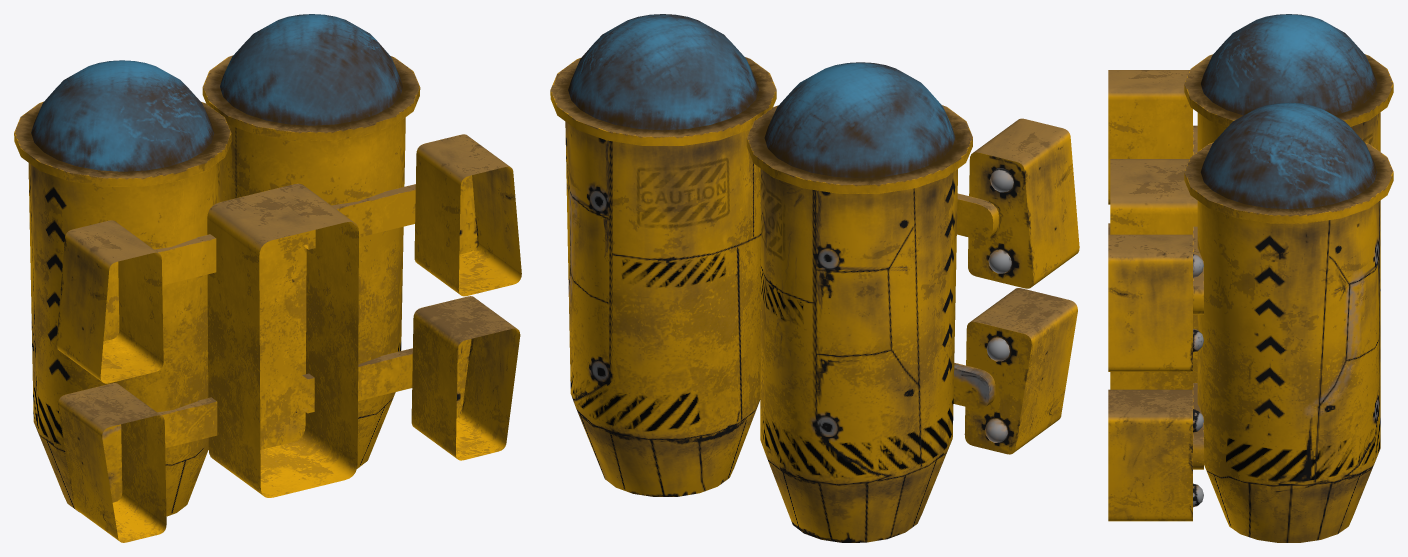
Rendered from BACK_YELLOW_JETPACK.fbx.
3 views of the same model, side by side, from view 1: azimuth 30°, elevation 25°; view 2: azimuth 150°, elevation 25°; view 3: azimuth 270°, elevation 25° (orthographic). The views are drawn at different scales.
Visible parts, largest first — view 1: BACK_YELLOW_JETPACK; view 2: BACK_YELLOW_JETPACK; view 3: BACK_YELLOW_JETPACK.
Part boxes in pixels (x1,y1,x2,y2): BACK_YELLOW_JETPACK: [14, 14, 521, 542]; BACK_YELLOW_JETPACK: [550, 14, 1079, 542]; BACK_YELLOW_JETPACK: [1108, 14, 1393, 542].
Size of the model in its own units: 0.0275 by 0.0266 by 0.0168.
